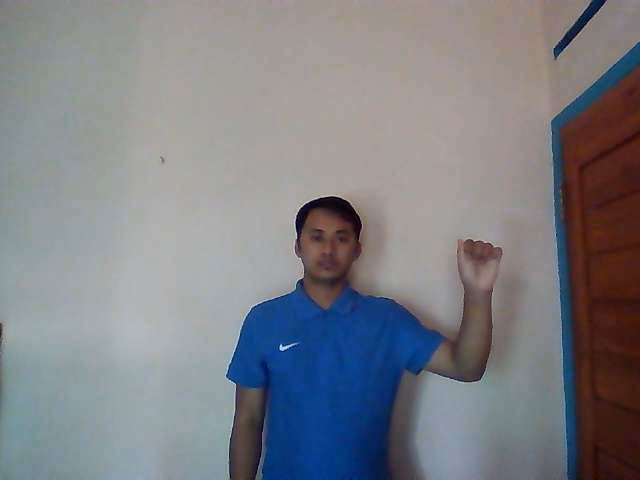A: (456, 237, 503, 290)
